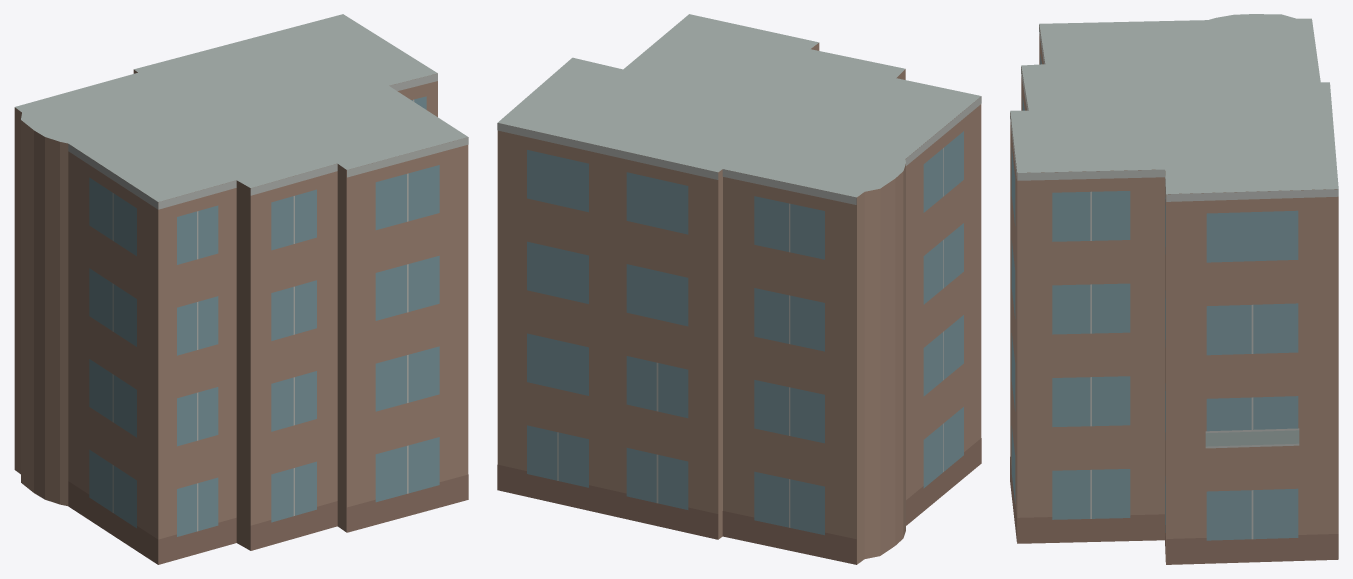
Rendered from survey-upis-32511993.glb.
The picture shows the model from 3 angles, left to right: view 1: azimuth 30°, elevation 25°; view 2: azimuth 150°, elevation 25°; view 3: azimuth 270°, elevation 25°; orthographic projection. The views are drawn at different scales.
Visible parts, largest first — view 1: survey-upis-32511993.tmp; view 2: survey-upis-32511993.tmp; view 3: survey-upis-32511993.tmp.
Boxes of the visible parts, box(x1,y1,x2,y2) form: survey-upis-32511993.tmp: box(14, 14, 468, 564); survey-upis-32511993.tmp: box(497, 14, 981, 564); survey-upis-32511993.tmp: box(1010, 14, 1338, 564).
Bounding box in the file's own units: 12.1 × 11.6 × 9.33.
